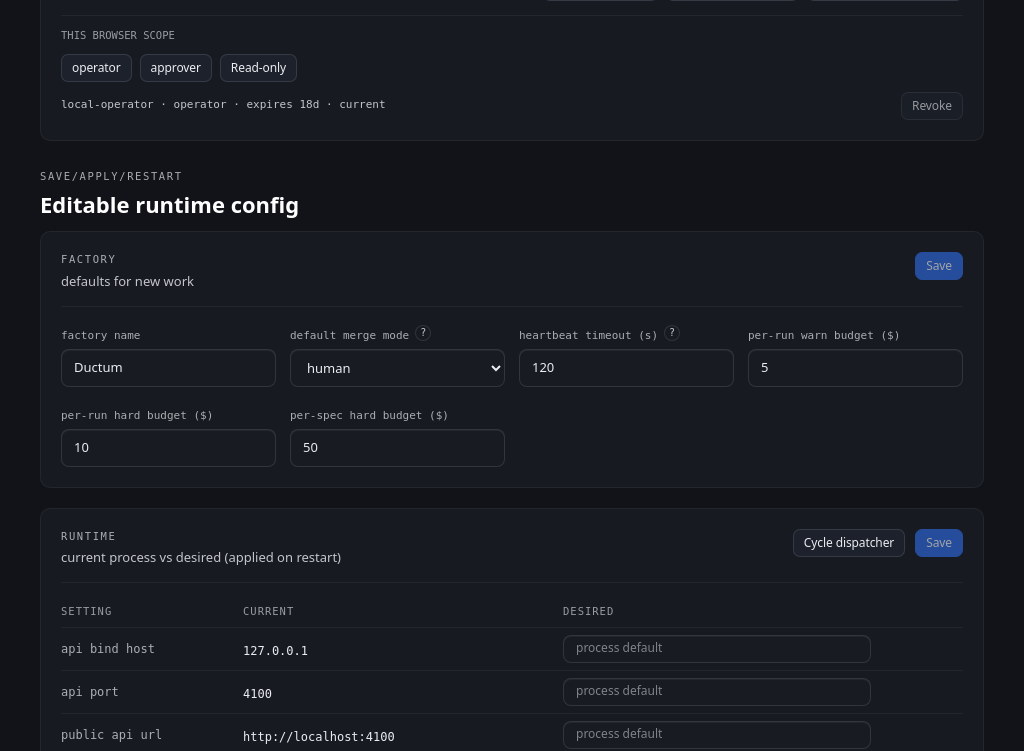
Settings › saves factory settings through PATCH /api/factory/settings and refetches typed keys
(page scrolled)
Replace the text in the field labelled "heartbeat timeout (s)" with "240". click: (626, 368)
box: [519,348,734,386]
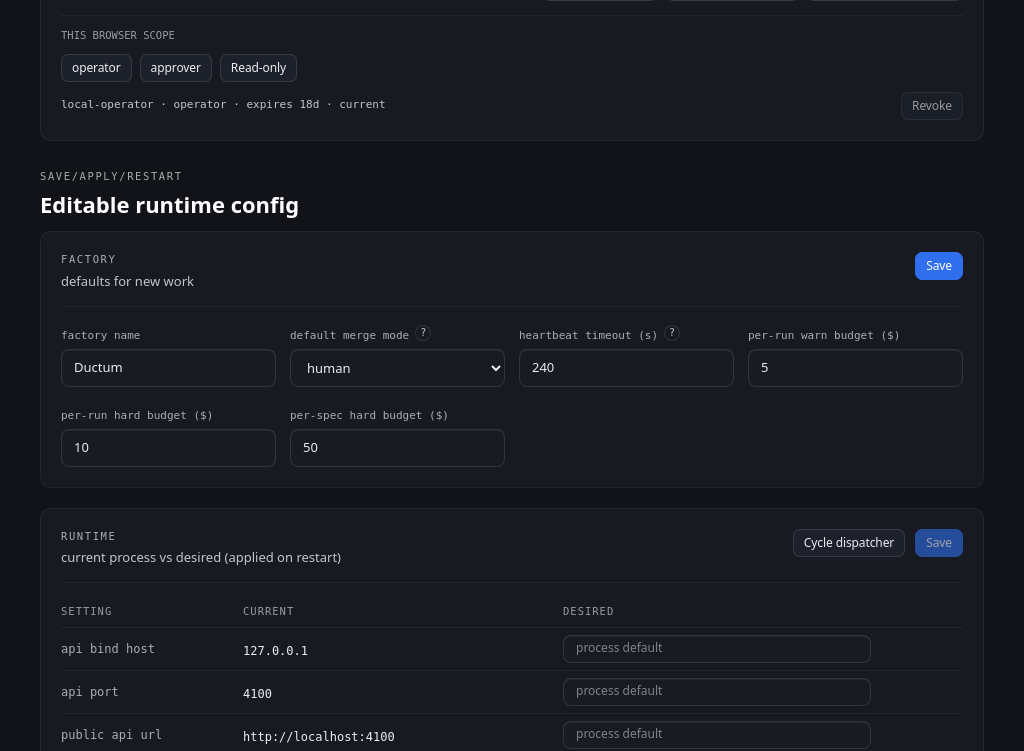
Click the button with aria-label "Save factory settings". click: click(939, 266)
box: [915,252,963,280]
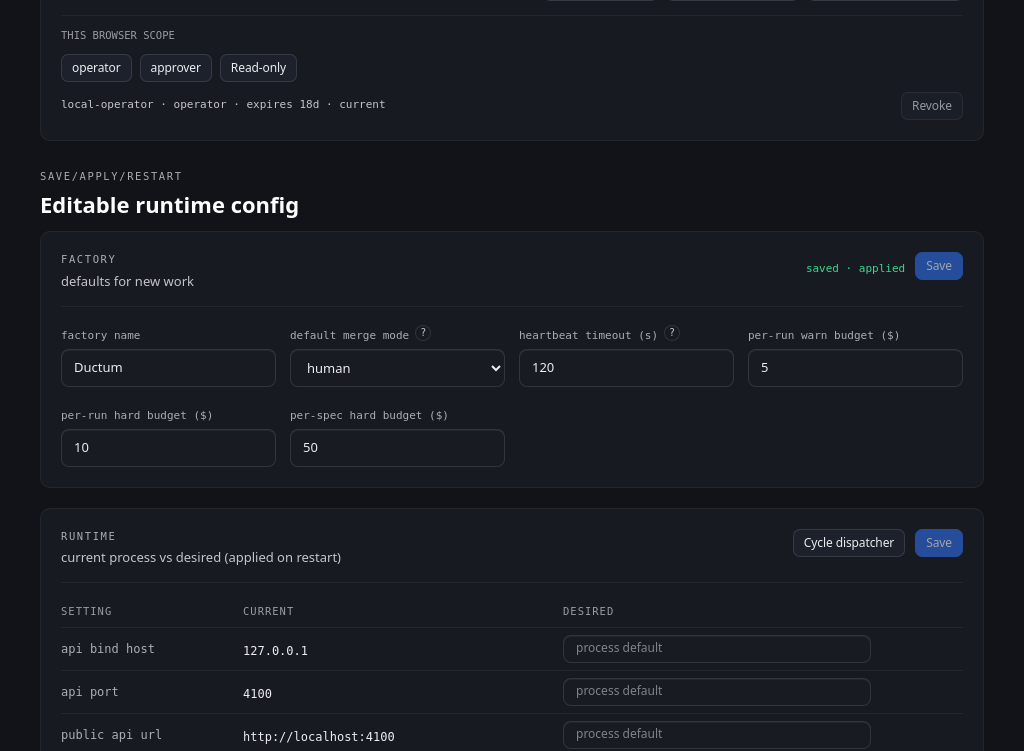
expect the element with test id "factory-settings-status" reads "saved · applied": met, box [806,262,905,275]
